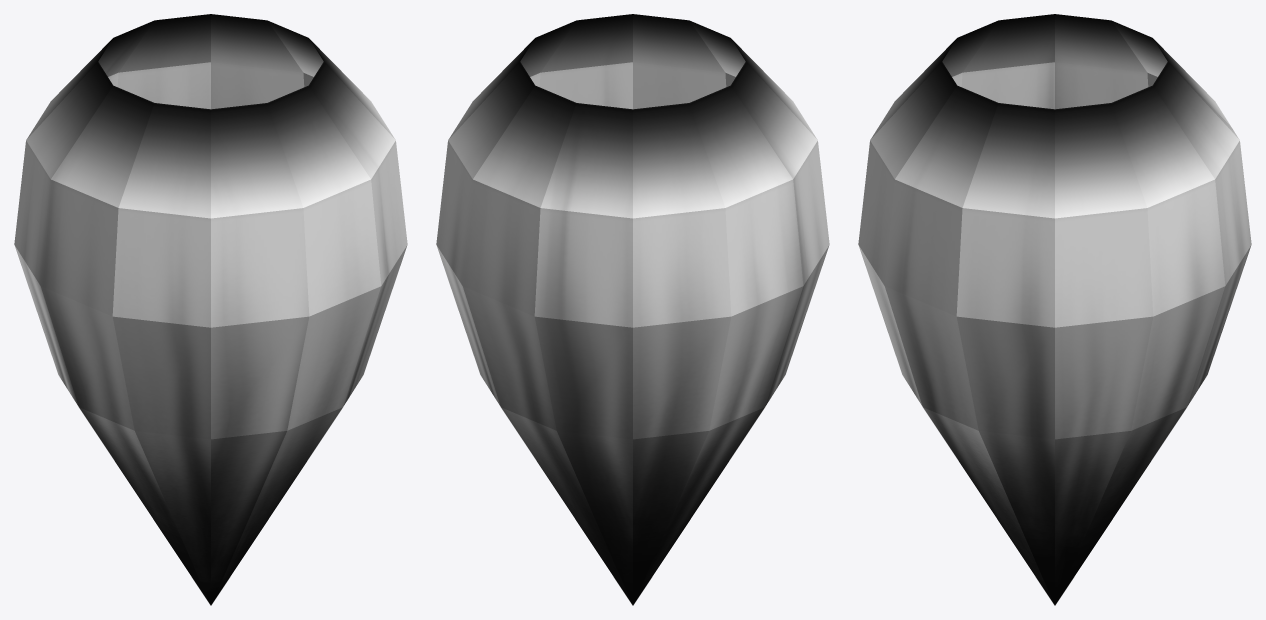
The model's file is SM_Flame_Mesh_New.fbx.
3 views of the same model, side by side, from view 1: azimuth 30°, elevation 25°; view 2: azimuth 150°, elevation 25°; view 3: azimuth 270°, elevation 25° (orthographic).
Parts seen in each view (by area): view 1: Flame_Mesh_New; view 2: Flame_Mesh_New; view 3: Flame_Mesh_New.
Boxes of the visible parts, <box> form: Flame_Mesh_New: <box>14,14,407,605</box>; Flame_Mesh_New: <box>436,14,829,605</box>; Flame_Mesh_New: <box>858,14,1251,605</box>.
Size of the model in its own units: 15.95 by 24.35 by 15.95.
